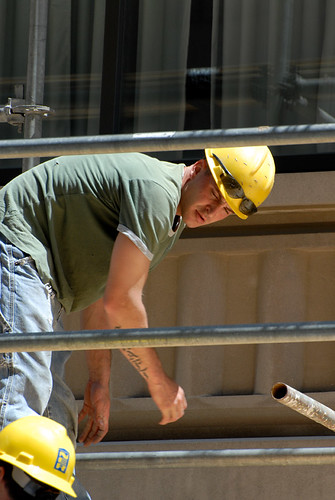person hardhat: (1, 152, 313, 444), (1, 412, 88, 500)
